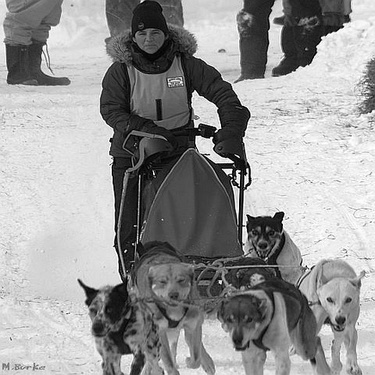dog: (118, 237, 221, 370), (66, 273, 181, 371), (198, 288, 331, 369), (280, 258, 369, 373), (211, 210, 316, 307), (127, 233, 193, 324), (199, 253, 289, 308)
